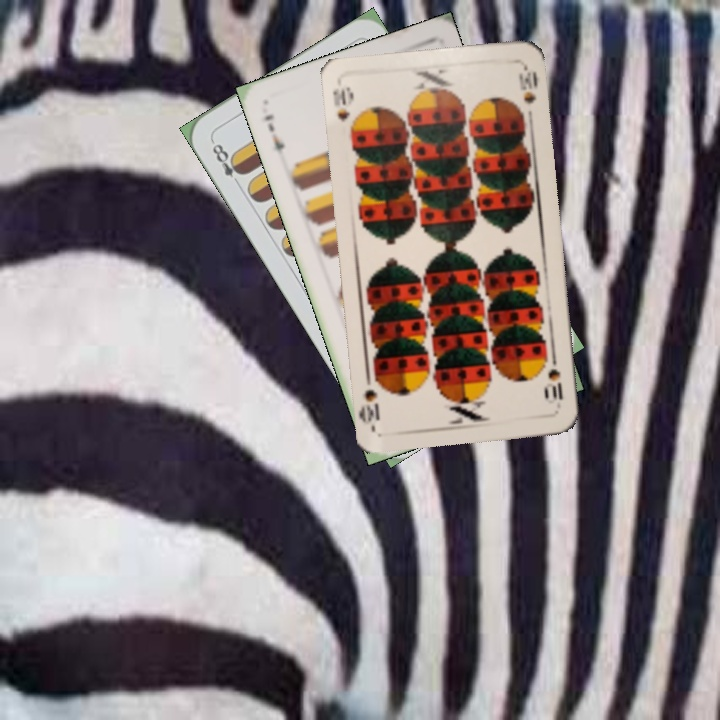E7: (260, 110, 288, 154)
E8: (207, 136, 248, 190)
S10: (328, 83, 357, 139), (543, 351, 565, 406)
